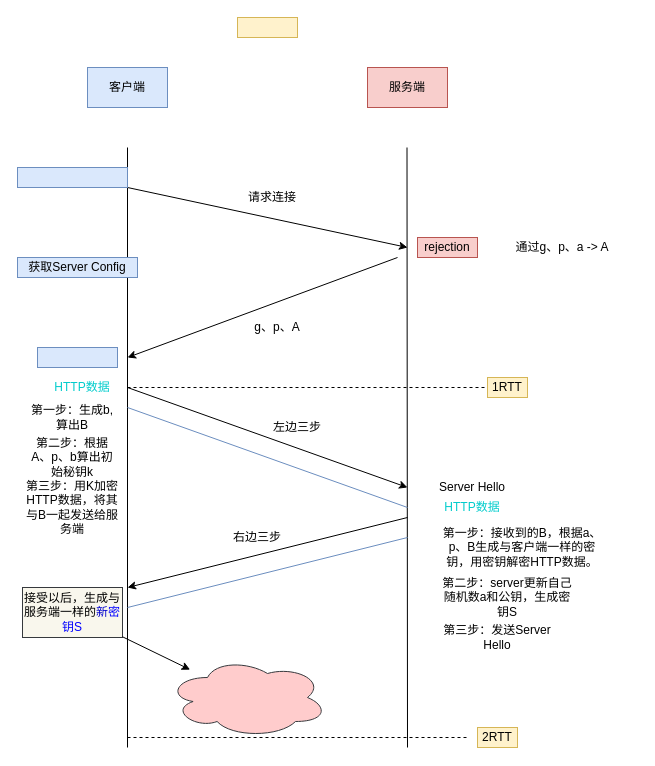
Image size: 655x766. Some labels were removed from this diagram. The box of each missing label's shape, as (x1, y1, x2, y2) in pixels:
Client Hello: (36, 346, 118, 368)
inchoate clinet hello: (16, 166, 128, 188)
QUIC协议: (236, 16, 298, 38)
传输用新密钥S加密: (166, 656, 328, 738)
